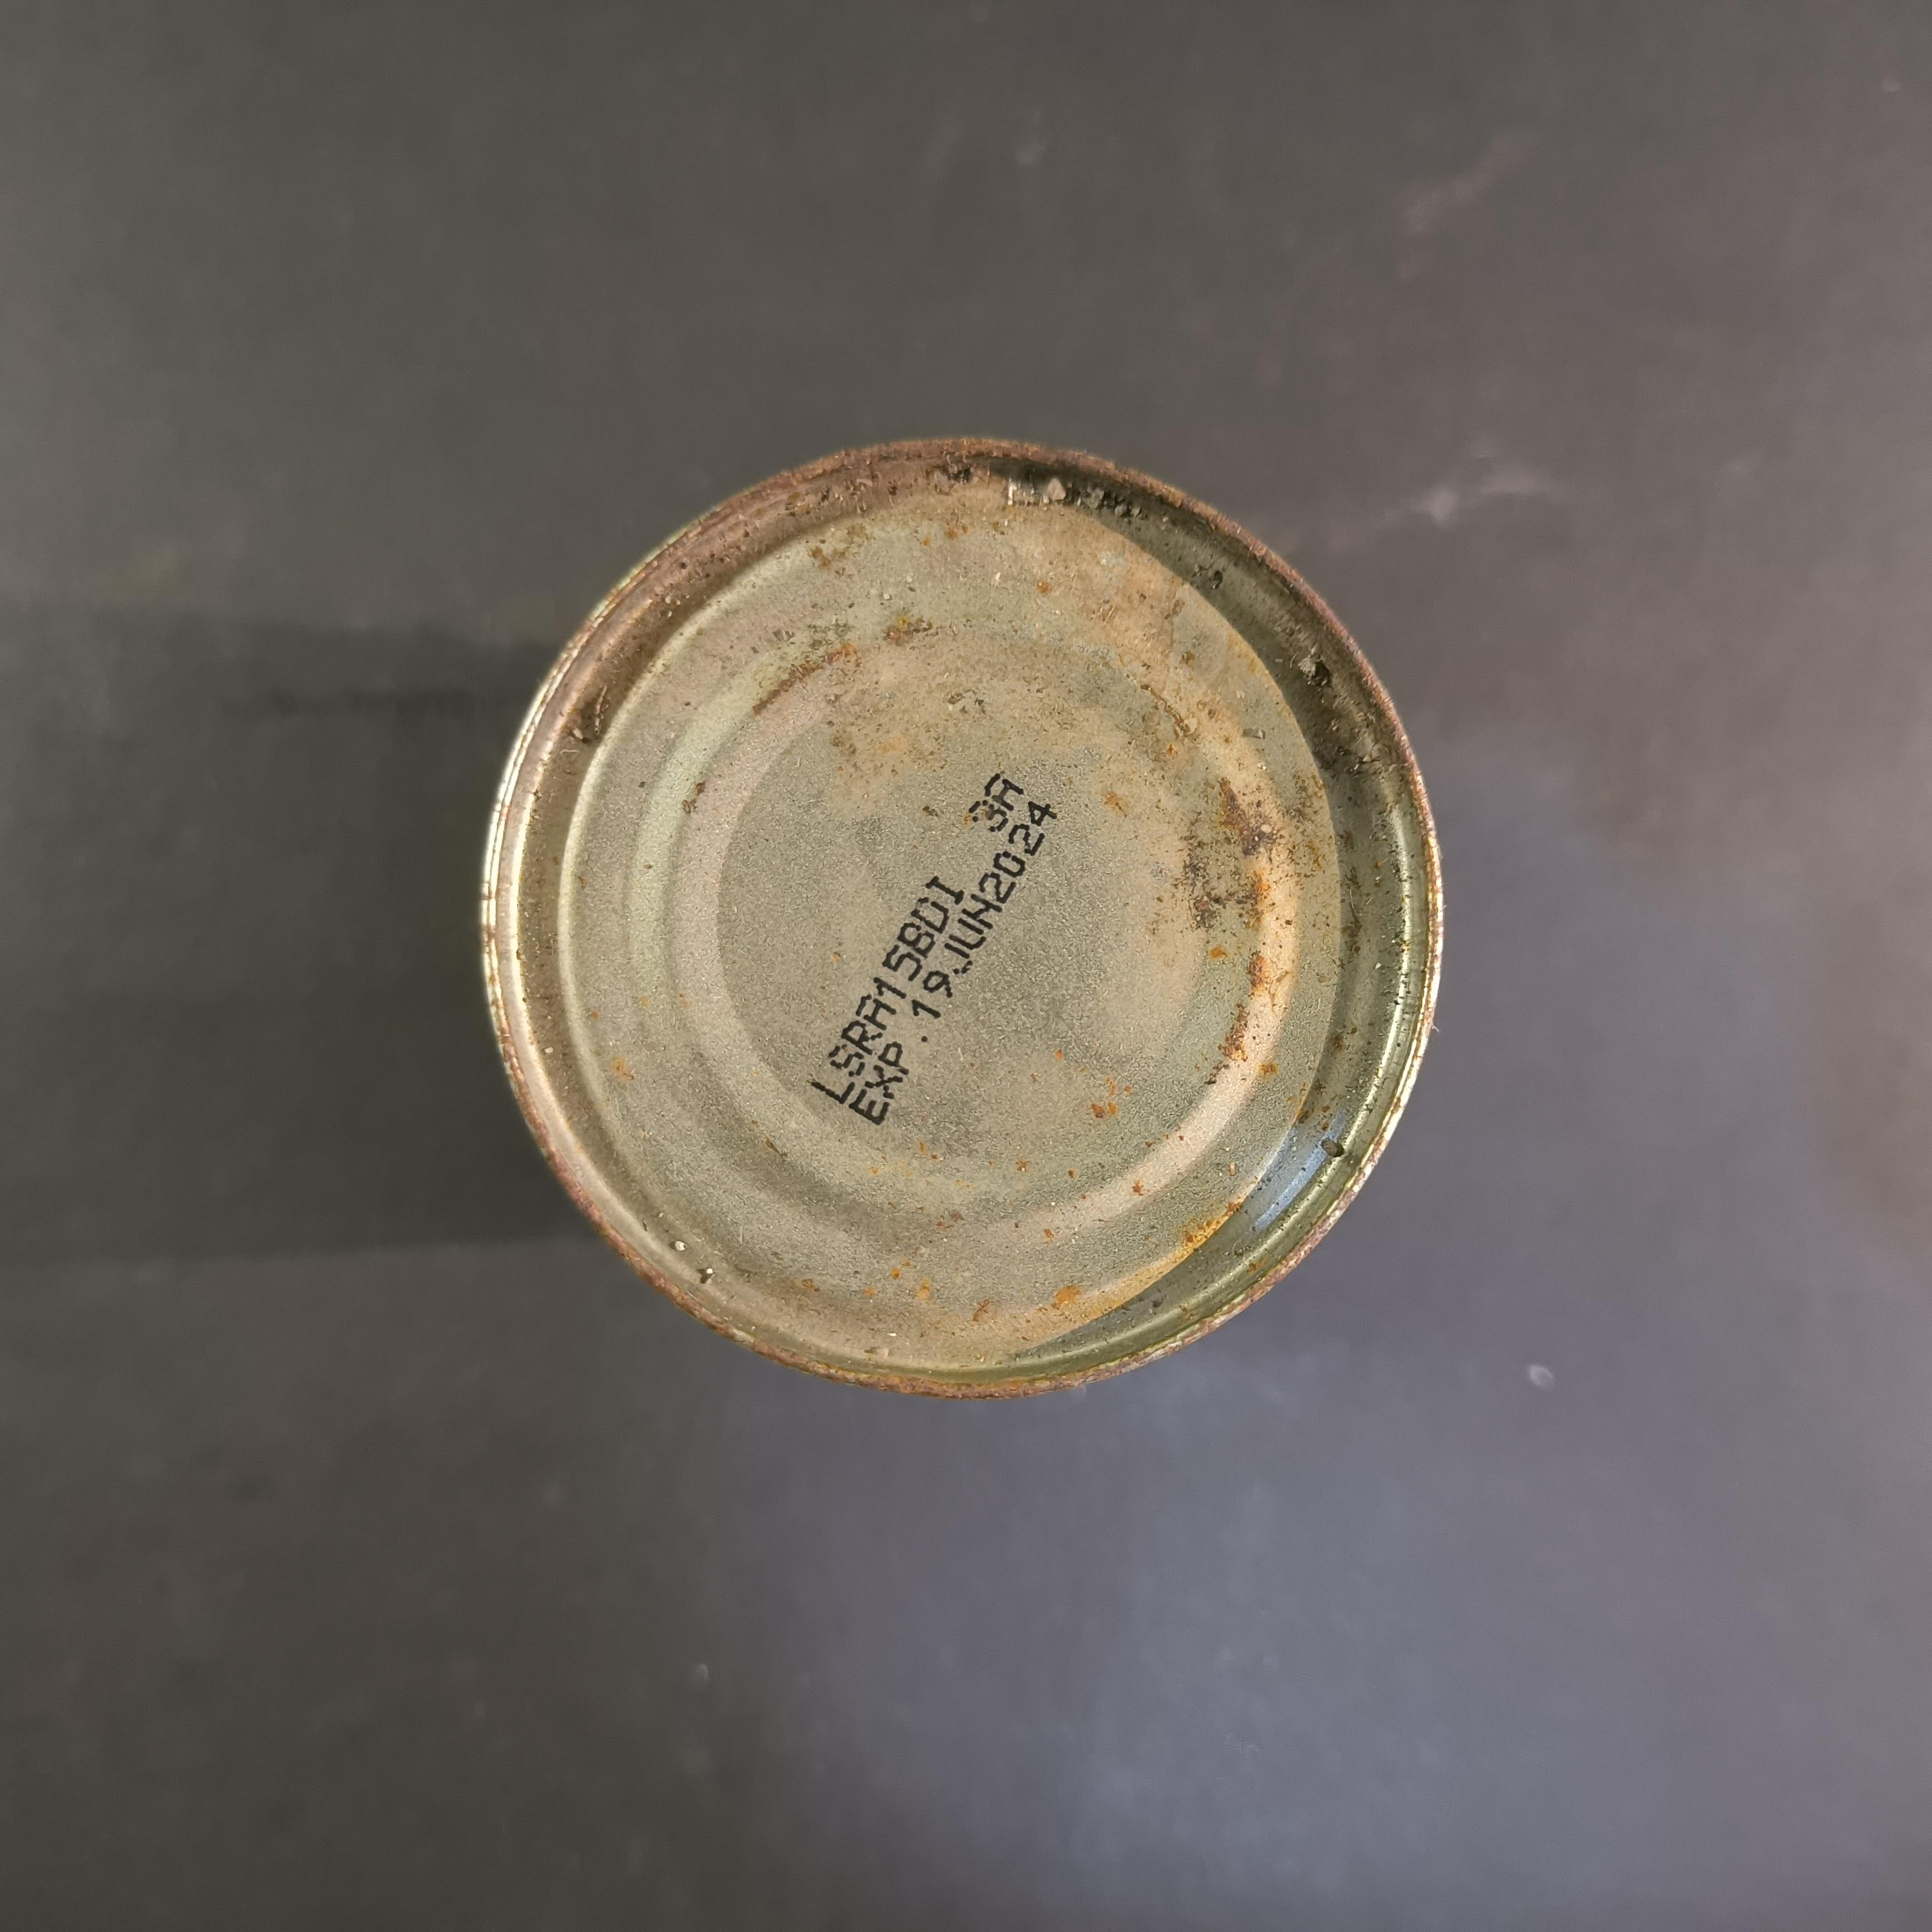Minor Defect: (469, 415, 1459, 1420)
